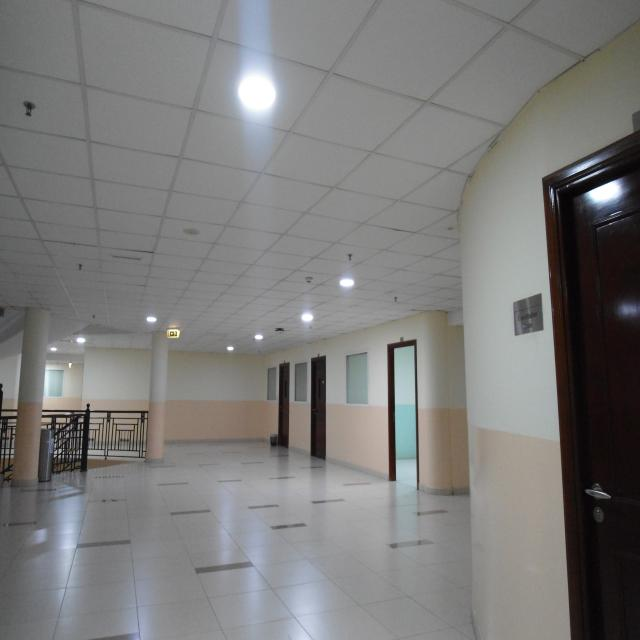door: (534, 126, 640, 640), (386, 342, 422, 493), (309, 356, 330, 465), (279, 356, 290, 446)
dustbin: (38, 428, 55, 484), (267, 429, 281, 450)
exitLight: (167, 328, 180, 338)
pillar: (11, 308, 50, 487), (146, 332, 168, 463)
railing: (45, 408, 149, 458), (53, 399, 89, 480), (0, 405, 18, 482)
wall: (274, 315, 462, 499), (81, 340, 271, 449)
